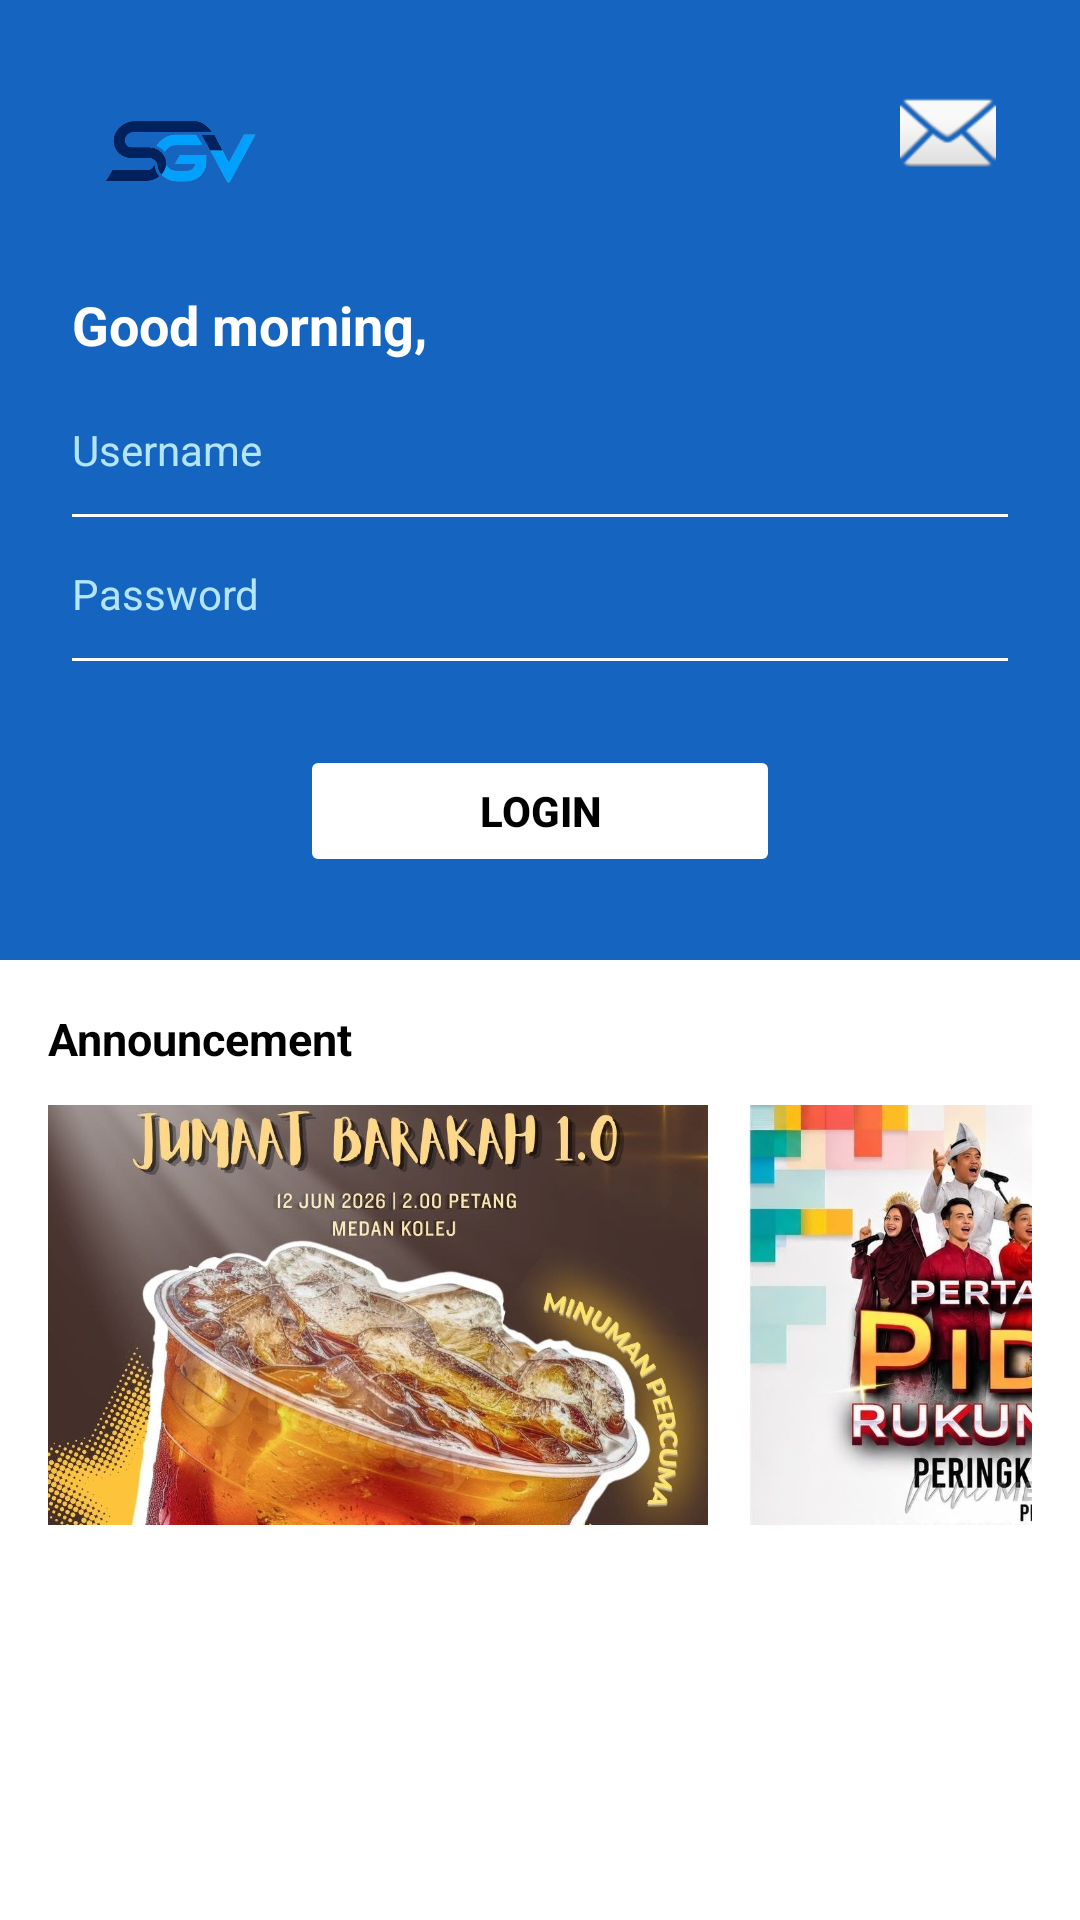

Screen size 1080w x 1920h. Icon name, then its box in pixels as (x1, y1, x2, y2):
Notifications: (900, 99, 996, 167)
